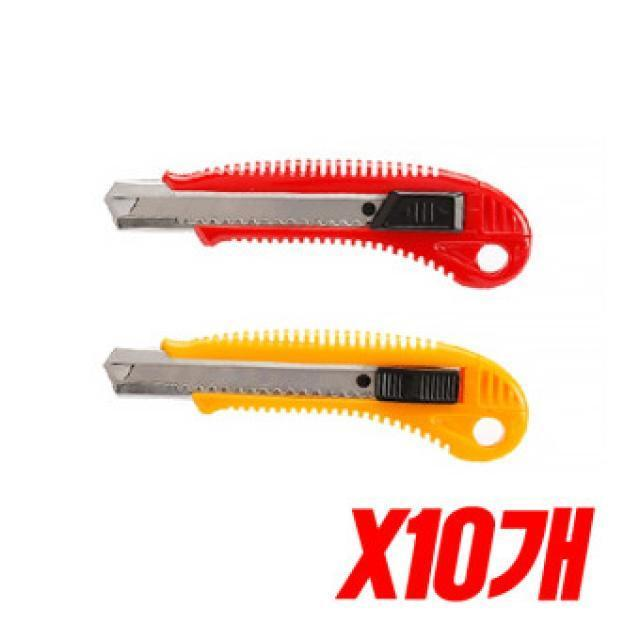cutter: (87, 313, 558, 482), (89, 140, 542, 304)
